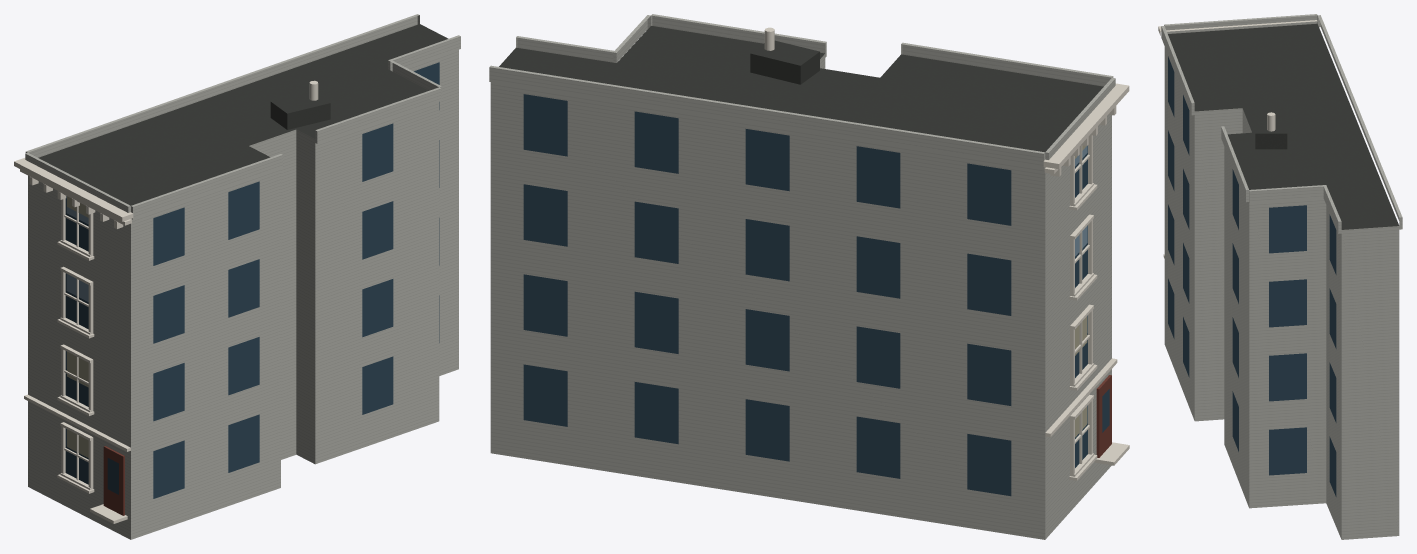
The picture shows the model from 3 angles, left to right: view 1: azimuth 30°, elevation 25°; view 2: azimuth 150°, elevation 25°; view 3: azimuth 270°, elevation 25°; orthographic projection. The views are drawn at different scales.
Parts seen in each view (by area): view 1: Footprint 0 / surface 2, Footprint 0 / surface 1, Inset glazing, Facade bay volumes, Cornices and window frames, Interior blind variation, Storefronts and doors, Inferred rooftop service enclosure / surface 5, Inferred rooftop service enclosure / surface 3, Sky reflection panels; view 2: Footprint 0 / surface 2, Inset glazing, Footprint 0 / surface 1, Facade bay volumes, Cornices and window frames, Inferred rooftop service enclosure / surface 6, Storefronts and doors, Inferred rooftop service enclosure / surface 3; view 3: Footprint 0 / surface 2, Footprint 0 / surface 1, Inset glazing, Facade bay volumes, Inferred rooftop service enclosure / surface 1, Inferred rooftop service enclosure / surface 3, Cornices and window frames.
Boxes of the visible parts, x1,y1,x2,y2 form: Footprint 0 / surface 2: (28, 49, 458, 539); Footprint 0 / surface 1: (38, 24, 448, 205); Inset glazing: (65, 62, 439, 498); Facade bay volumes: (25, 14, 460, 219); Cornices and window frames: (14, 158, 133, 523); Interior blind variation: (67, 196, 88, 457); Storefronts and doors: (103, 446, 124, 515); Inferred rooftop service enclosure / surface 5: (287, 103, 330, 129); Inferred rooftop service enclosure / surface 3: (271, 92, 329, 113); Sky reflection panels: (66, 196, 88, 445); Footprint 0 / surface 2: (490, 54, 1111, 539); Inset glazing: (523, 94, 1109, 496); Footprint 0 / surface 1: (499, 26, 1103, 152); Facade bay volumes: (489, 14, 1115, 168); Cornices and window frames: (1043, 83, 1129, 480); Inferred rooftop service enclosure / surface 6: (750, 53, 800, 84); Storefronts and doors: (1096, 375, 1111, 457); Inferred rooftop service enclosure / surface 3: (750, 40, 819, 65); Footprint 0 / surface 2: (1164, 47, 1399, 539); Footprint 0 / surface 1: (1168, 23, 1399, 229); Inset glazing: (1168, 56, 1336, 496); Facade bay volumes: (1161, 14, 1402, 233); Inferred rooftop service enclosure / surface 1: (1255, 133, 1287, 149); Inferred rooftop service enclosure / surface 3: (1255, 113, 1287, 133); Cornices and window frames: (1158, 20, 1317, 258).
Bounding box in the file's own units: 18.95 × 14.19 × 9.2.
